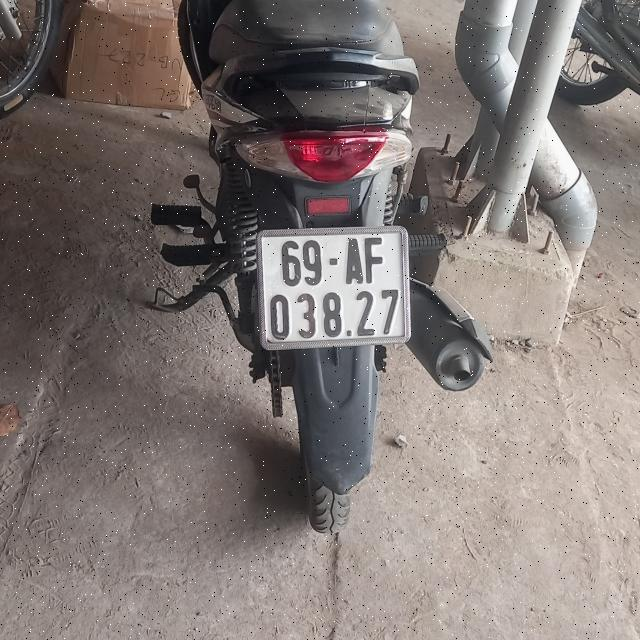0: (270, 294, 289, 341)
2: (356, 291, 374, 336)
3: (297, 293, 316, 339)
6: (282, 240, 301, 286)
7: (381, 288, 399, 334)
8: (323, 292, 343, 338)
9: (303, 240, 322, 285)
A: (346, 238, 362, 285)
F: (364, 237, 384, 283)
